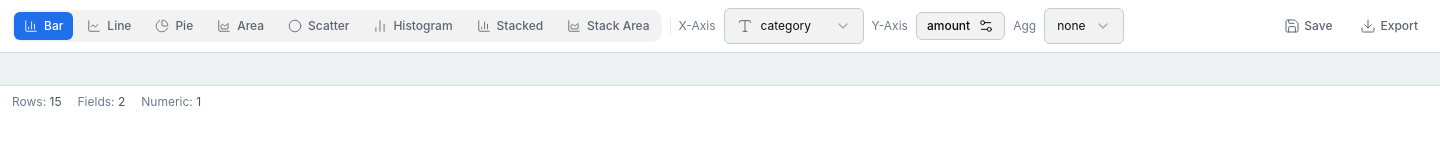
Scenario: DataCharts › shows "Showing top 8 values" for pie with more rows than palette slots
The image size is (1440, 160).
# manyPieResult has 15 rows and suggests bar, switch to pie
What coordinates should you click on to do the following:
click the button "Pie"
I would click on:
 (174, 26)
Its box is top-left (145, 12), bottom-right (203, 40).
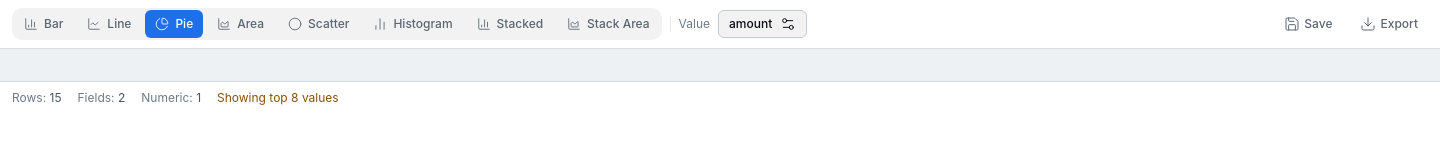
Expected: the text "Showing top 8 values" is shown, top-left (217, 90), bottom-right (339, 106)
